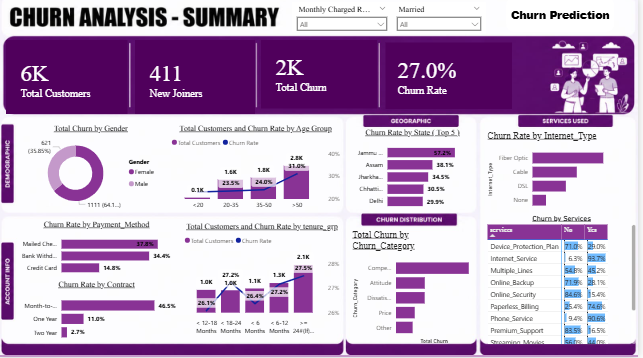

This screenshot's page, from the dashboard's own definition file:
{"tool":"powerbi","page":{"name":"Summary","canvas":[1280,720],"ordinal":0},"visuals":[{"type":"cardVisual","fields":{"Data":["tbl_measures.Total Customers"]},"box":[16.7,85,243.3,148.3],"z":0},{"type":"cardVisual","fields":{"Data":["tbl_measures.New Joiners"]},"box":[273.3,85,240,148.3],"z":1000},{"type":"cardVisual","fields":{"Data":["tbl_measures.Churn Rate"]},"box":[770,85,263.3,143.3],"z":2000},{"type":"cardVisual","fields":{"Data":["tbl_measures.Total Churn"]},"box":[526.7,85,231.7,136.7],"z":3000},{"type":"donutChart","fields":{"Category":["prod_Churn.Gender"],"Y":["tbl_measures.Total Churn"]},"box":[43.3,253.3,283.3,180],"z":4000},{"type":"lineStackedColumnComboChart","fields":{"Category":["mapping_age_grp.Age Group"],"Y":["tbl_measures.Total Customers"],"Y2":["tbl_measures.Churn Rate"]},"box":[341.7,253.3,346.7,180],"z":5000},{"type":"clusteredBarChart","fields":{"Category":["prod_Churn.Payment_Method"],"Y":["tbl_measures.Churn Rate"]},"box":[31.7,446.7,330,120],"z":6000},{"type":"clusteredBarChart","fields":{"Category":["prod_Churn.Contract"],"Y":["tbl_measures.Churn Rate"]},"box":[31.7,566.7,330,131.7],"z":7000},{"type":"lineStackedColumnComboChart","fields":{"Category":["mapping_tenure_grp.tenure_grp"],"Y":["tbl_measures.Total Customers"],"Y2":["tbl_measures.Churn Rate"]},"box":[368.3,450,320,248.3],"z":8000},{"type":"clusteredBarChart","title":"Churn Rate by State ( Top 5 )","fields":{"Category":["prod_Churn.State"],"Y":["tbl_measures.Churn Rate"]},"box":[703.3,261.7,250,171.7],"z":9000},{"type":"clusteredBarChart","fields":{"Category":["prod_Churn.Churn_Category"],"Y":["tbl_measures.Total Churn"]},"box":[703.3,463.3,250,235],"z":10000},{"type":"clusteredBarChart","fields":{"Category":["prod_Churn.Internet_Type"],"Y":["tbl_measures.Churn Rate"]},"box":[973.3,265,306.7,168.3],"z":11000},{"type":"pivotTable","title":"Churn by Services","fields":{"Rows":["prod_services.services"],"Columns":["prod_services.status"],"Values":["Sum(prod_services.Churn Status)"]},"box":[973.3,433.3,306.7,265],"z":12000},{"type":"shape","box":[1016.7,0,216.7,70],"z":13000},{"type":"slicer","fields":{"Values":["prod_Churn.Monthly Charged Status"]},"box":[588.3,10,200,60],"z":14000},{"type":"slicer","fields":{"Values":["prod_Churn.Married"]},"box":[788.3,10,188.3,63.3],"z":15000}]}

Visuals, with their boxes in screenshot pixels (x1, y1, x2, y2), scaled from the page's 1280x720 canvas onto the 643x358 screenshot:
cardVisual - tbl_measures.Total Customers: box=[8, 42, 131, 116]
cardVisual - tbl_measures.New Joiners: box=[137, 42, 258, 116]
cardVisual - tbl_measures.Churn Rate: box=[387, 42, 519, 114]
cardVisual - tbl_measures.Total Churn: box=[265, 42, 381, 110]
donutChart - prod_Churn.Gender x tbl_measures.Total Churn: box=[22, 126, 164, 215]
lineStackedColumnComboChart - mapping_age_grp.Age Group x tbl_measures.Total Customers: box=[172, 126, 346, 215]
clusteredBarChart - prod_Churn.Payment_Method x tbl_measures.Churn Rate: box=[16, 222, 182, 282]
clusteredBarChart - prod_Churn.Contract x tbl_measures.Churn Rate: box=[16, 282, 182, 347]
lineStackedColumnComboChart - mapping_tenure_grp.tenure_grp x tbl_measures.Total Customers: box=[185, 224, 346, 347]
"Churn Rate by State ( Top 5 )" clusteredBarChart: box=[353, 130, 479, 215]
clusteredBarChart - prod_Churn.Churn_Category x tbl_measures.Total Churn: box=[353, 230, 479, 347]
clusteredBarChart - prod_Churn.Internet_Type x tbl_measures.Churn Rate: box=[489, 132, 642, 215]
"Churn by Services" pivotTable: box=[489, 215, 642, 347]
shape: box=[511, 0, 620, 35]
slicer - prod_Churn.Monthly Charged Status: box=[296, 5, 396, 35]
slicer - prod_Churn.Married: box=[396, 5, 491, 36]
